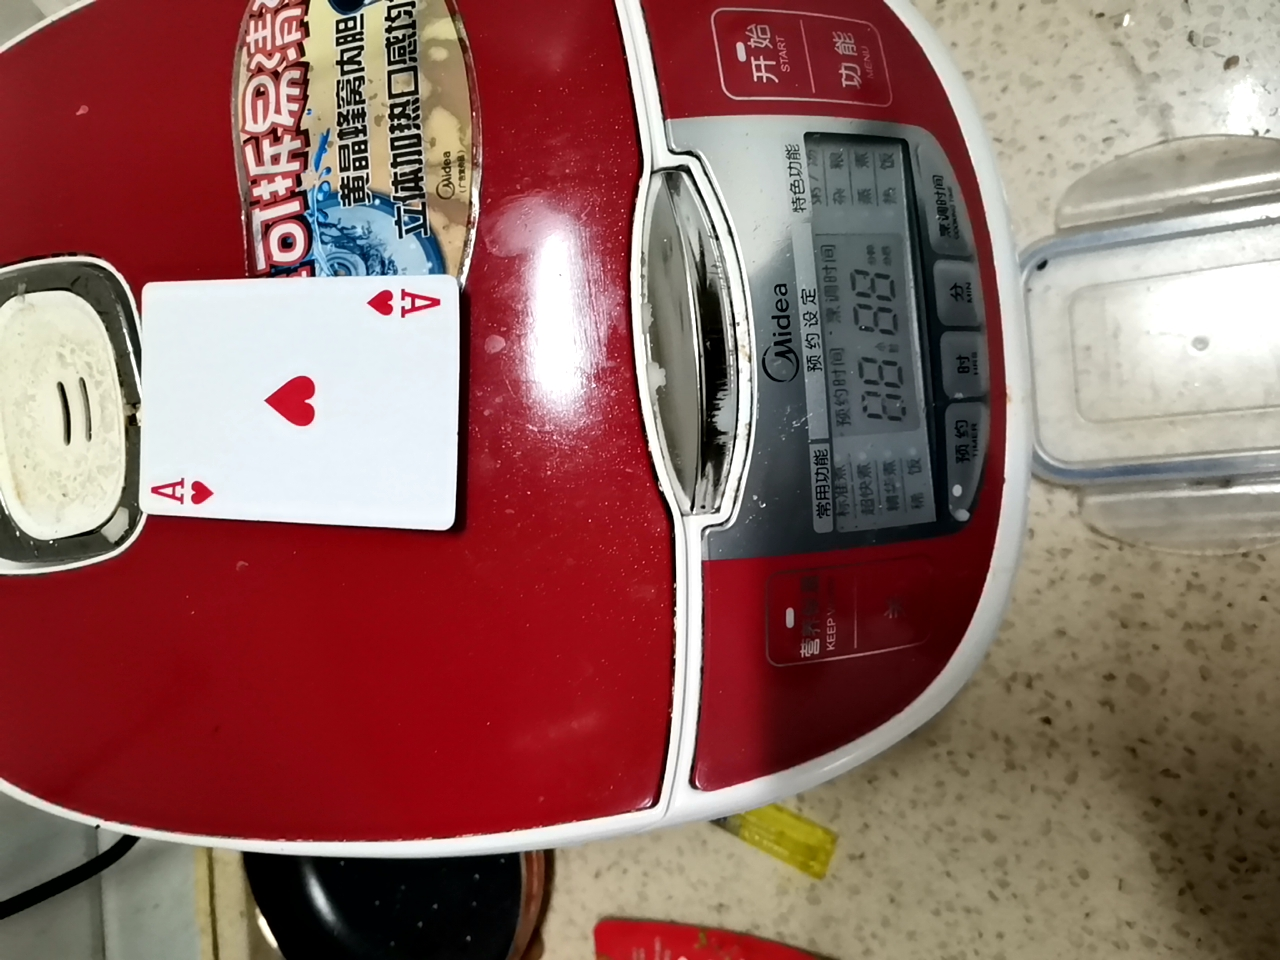hx a: (115, 266, 454, 545)
